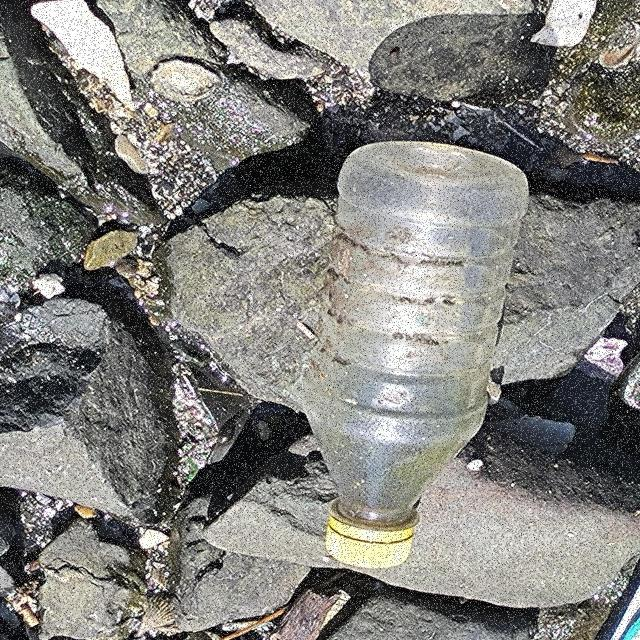plastic_waste: (299, 140, 534, 572)
